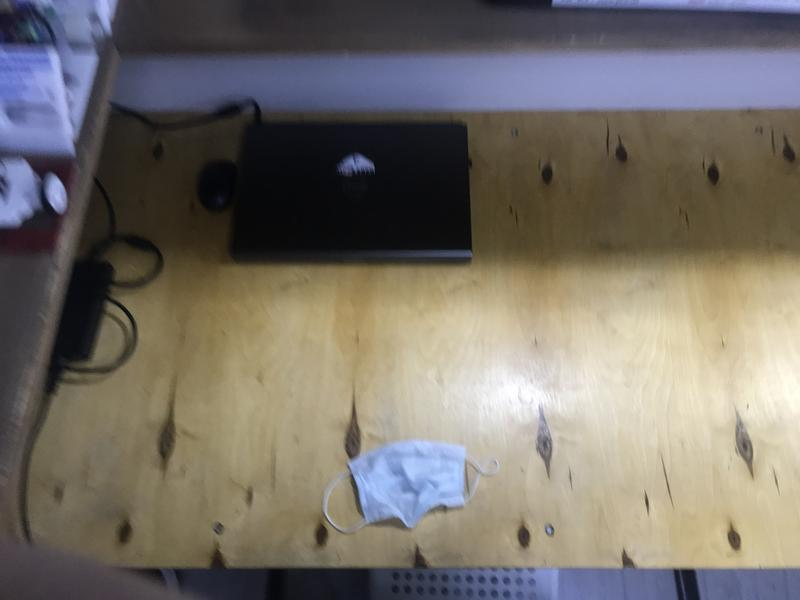medical_mask: (325, 440, 500, 533)
